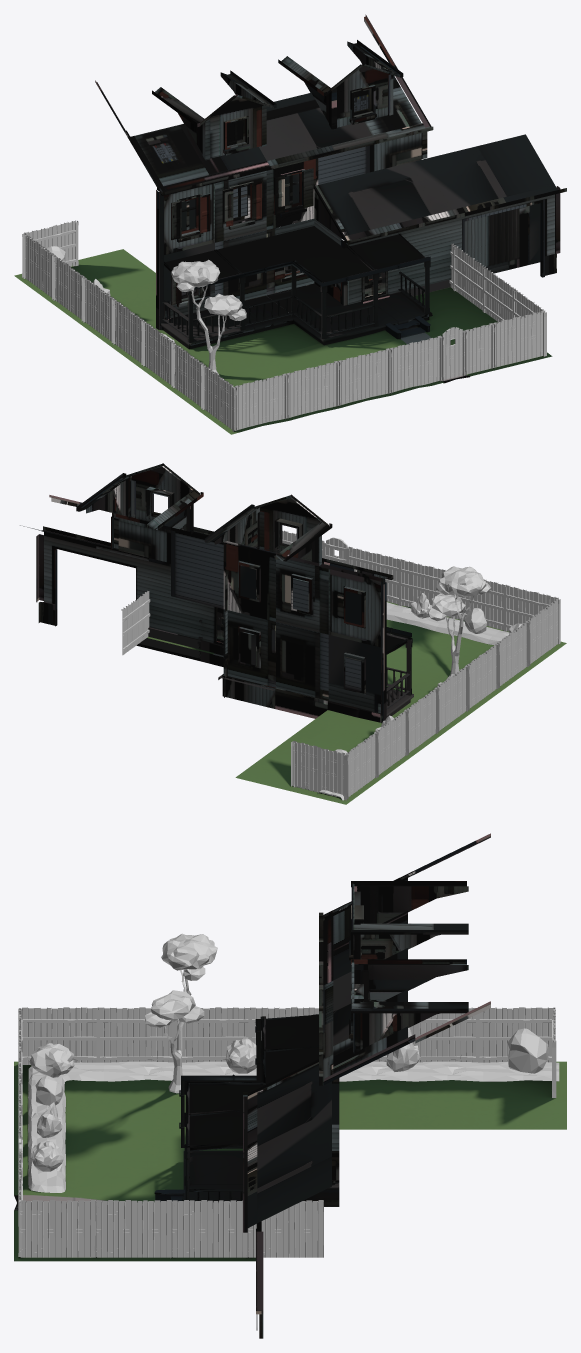
File: house.fbx
3 views of the same model, one above another, from view 1: azimuth 30°, elevation 25°; view 2: azimuth 150°, elevation 25°; view 3: azimuth 270°, elevation 25° (orthographic). The views are drawn at different scales.
Parts seen in each view (by area): view 1: House_Baked, Fence_Optimized_Baked, Deck_Baked, Grass_Baked, Garden_Baked; view 2: House_Baked, Fence_Optimized_Baked, Grass_Baked, Garden_Baked, Deck_Baked; view 3: House_Baked, Fence_Optimized_Baked, Grass_Baked, Garden_Baked, Deck_Baked.
Boxes of the visible parts, <box> form: House_Baked: <box>95,14,566,329</box>; Fence_Optimized_Baked: <box>22,220,546,431</box>; Deck_Baked: <box>160,226,432,349</box>; Grass_Baked: <box>14,249,552,434</box>; Garden_Baked: <box>46,246,246,375</box>; House_Baked: <box>20,463,393,722</box>; Fence_Optimized_Baked: <box>121,530,560,800</box>; Grass_Baked: <box>147,601,566,804</box>; Garden_Baked: <box>318,566,524,800</box>; Deck_Baked: <box>197,616,413,722</box>; House_Baked: <box>243,833,490,1338</box>; Fence_Optimized_Baked: <box>18,1007,556,1258</box>; Grass_Baked: <box>14,1061,566,1261</box>; Garden_Baked: <box>28,933,559,1192</box>; Deck_Baked: <box>154,1014,339,1202</box>.
Size of the model in its own units: 2060 by 1027 by 1821.
